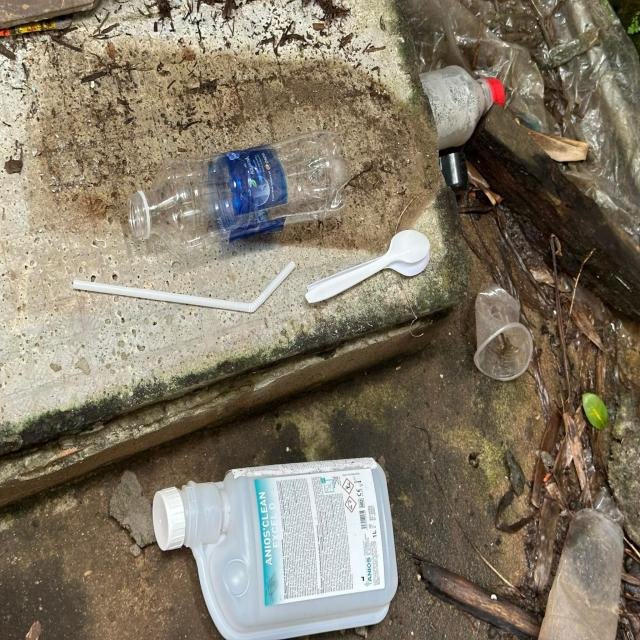bottle: (152, 458, 400, 640), (125, 131, 352, 254), (418, 65, 506, 152)
drinking straw: (73, 260, 296, 314)
plastic glass: (473, 281, 534, 381)
plastic utensil: (305, 230, 429, 304)
